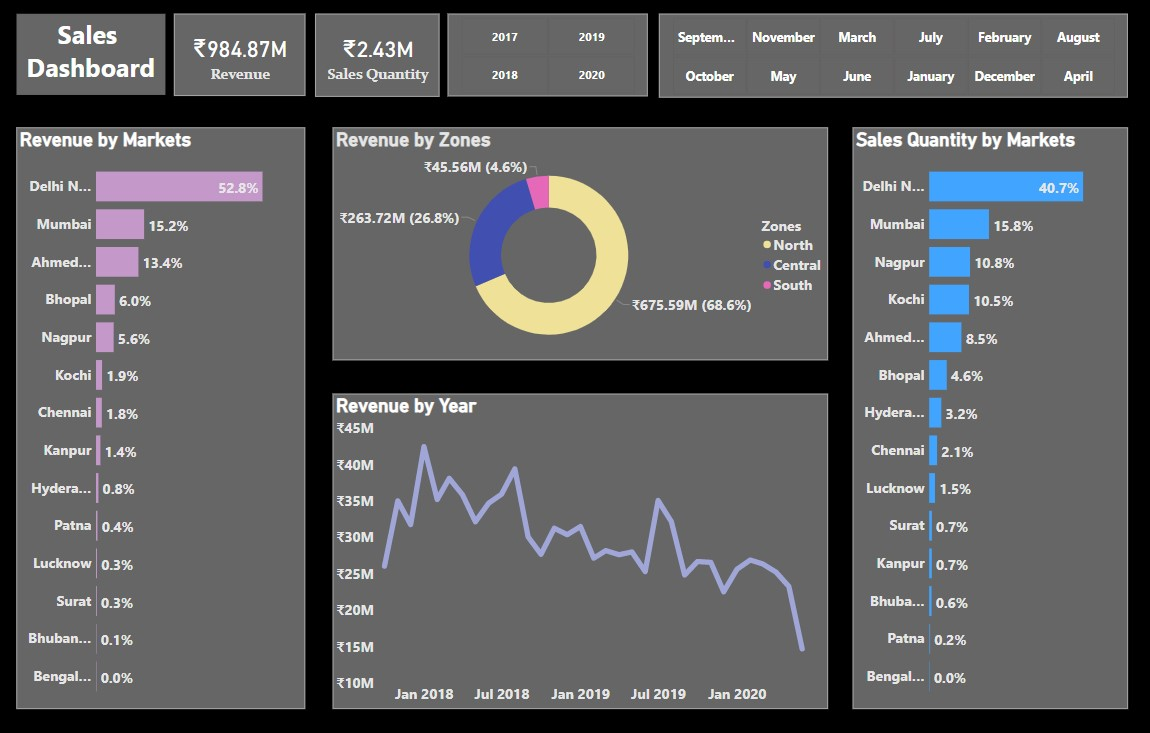

Layout of this report page (visuals, bound fields, positions):
{"tool":"powerbi","page":{"name":"Key Insights 1","canvas":[2200,1400],"ordinal":0},"visuals":[{"type":"card","fields":{"Values":["Base Measures.Revenue"]},"box":[332.5,25.9,249.9,155.6],"z":0},{"type":"card","fields":{"Values":["Base Measures.Sales Qty"]},"box":[601.3,25.9,235.8,158],"z":1000},{"type":"clusteredBarChart","title":"Revenue by Markets","fields":{"Y":["Base Measures.Revenue"],"Category":["sales markets.markets_name"]},"box":[33.3,242.4,549.1,1105.3],"z":2000},{"type":"lineChart","title":"Revenue by Year","fields":{"Y":["Base Measures.Revenue"],"Category":["sales date.cy_date.Variation.Date Hierarchy.Year","sales date.cy_date.Variation.Date Hierarchy.Quarter","sales date.cy_date.Variation.Date Hierarchy.Month","sales date.cy_date.Variation.Date Hierarchy.Day"]},"box":[634.6,748.7,941.3,599],"z":3000},{"type":"slicer","fields":{"Values":["sales date.month_name"]},"box":[1255,26.1,891.3,159.3],"z":4000},{"type":"donutChart","title":"Revenue by Zones","fields":{"Category":["sales markets.zone"],"Y":["Base Measures.Revenue"]},"box":[634.6,242.4,941.3,442.1],"z":5000},{"type":"slicer","fields":{"Values":["sales date.year"]},"box":[853.3,26.1,380.3,156.9],"z":6000},{"type":"textbox","box":[33.3,26.1,282.9,154.5],"z":7000},{"type":"clusteredBarChart","title":"Sales Quantity by Markets","fields":{"Y":["Base Measures.Sales Qty"],"Category":["sales markets.markets_name"]},"box":[1623.4,242.4,522.9,1105.3],"z":8000}]}

Visuals, with their boxes in screenshot pixels (x1, y1, x2, y2), scaled from the page's 2200x1400 canvas onto the 1150x733 screenshot:
card - Base Measures.Revenue: {"x1": 174, "y1": 14, "x2": 304, "y2": 95}
card - Base Measures.Sales Qty: {"x1": 314, "y1": 14, "x2": 438, "y2": 96}
"Revenue by Markets" clusteredBarChart: {"x1": 17, "y1": 127, "x2": 304, "y2": 706}
"Revenue by Year" lineChart: {"x1": 332, "y1": 392, "x2": 824, "y2": 706}
slicer - sales date.month_name: {"x1": 656, "y1": 14, "x2": 1122, "y2": 97}
"Revenue by Zones" donutChart: {"x1": 332, "y1": 127, "x2": 824, "y2": 358}
slicer - sales date.year: {"x1": 446, "y1": 14, "x2": 645, "y2": 96}
textbox: {"x1": 17, "y1": 14, "x2": 165, "y2": 95}
"Sales Quantity by Markets" clusteredBarChart: {"x1": 849, "y1": 127, "x2": 1122, "y2": 706}
